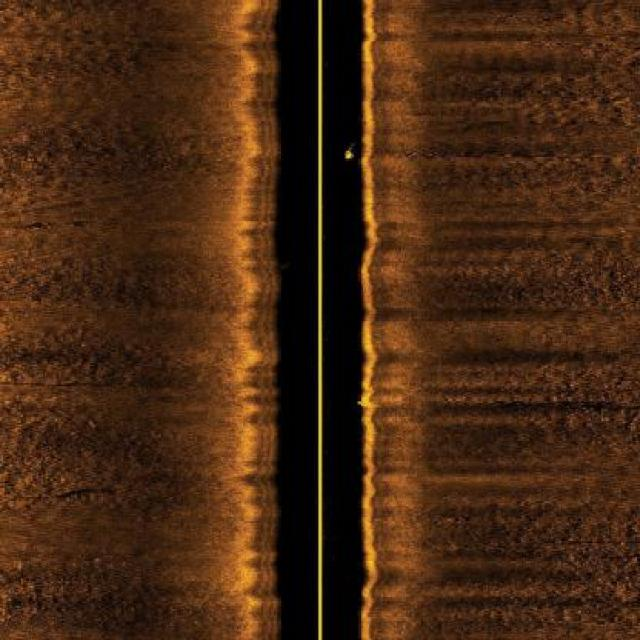other: (345, 143, 369, 160)
